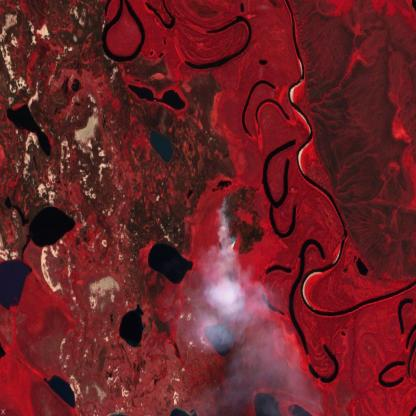fire: (214, 196, 247, 254)
